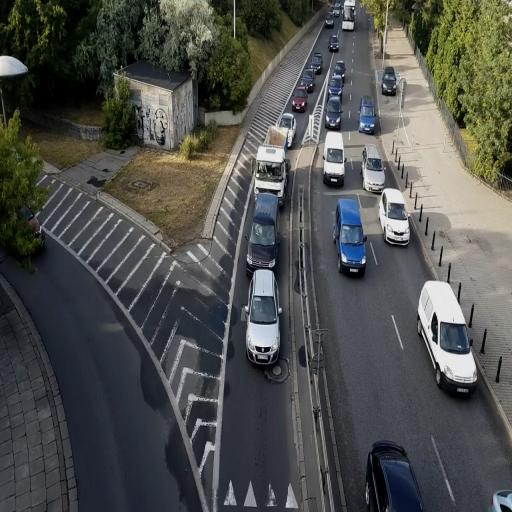vehicle: (417, 279, 478, 398), (245, 145, 286, 275), (364, 440, 424, 511), (244, 269, 282, 366), (246, 188, 280, 274), (333, 194, 366, 277), (254, 145, 287, 204), (379, 188, 410, 247), (322, 132, 346, 186), (361, 144, 385, 192), (358, 96, 377, 134), (324, 97, 342, 131), (380, 67, 398, 96), (330, 60, 346, 92), (492, 488, 512, 511), (292, 96, 306, 113), (328, 33, 339, 52)
